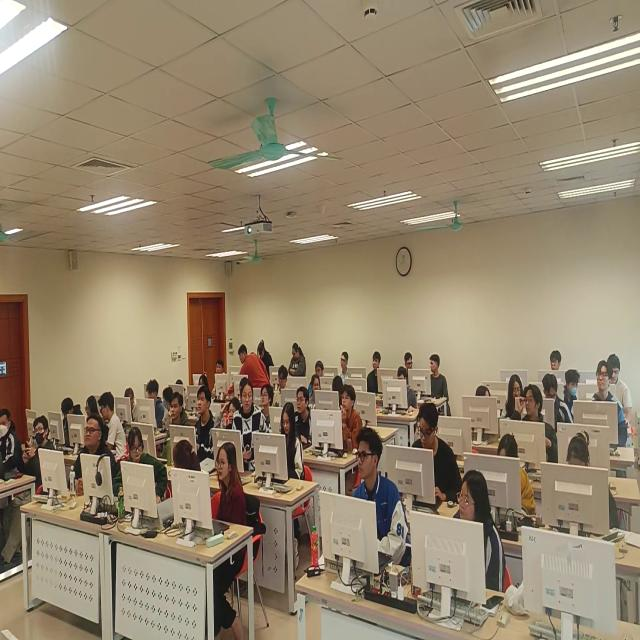raise_head: (412, 471, 498, 623), (324, 427, 404, 576), (196, 449, 245, 569), (586, 362, 626, 445), (318, 389, 362, 460), (74, 418, 111, 500), (192, 390, 220, 463), (517, 388, 545, 454), (163, 397, 194, 449), (294, 388, 315, 446), (365, 352, 386, 395), (274, 366, 292, 413), (211, 356, 230, 398), (261, 385, 276, 426), (335, 350, 353, 382), (548, 347, 565, 376)
stand: (237, 384, 261, 475), (288, 341, 309, 380)
using_computer: (400, 401, 462, 503), (559, 441, 602, 516), (491, 441, 528, 524), (269, 408, 297, 483), (53, 397, 81, 454), (470, 376, 492, 437), (387, 368, 414, 416), (503, 371, 525, 425), (141, 380, 163, 432), (78, 390, 100, 438), (544, 373, 561, 428)
using_phone: (21, 417, 54, 516)
